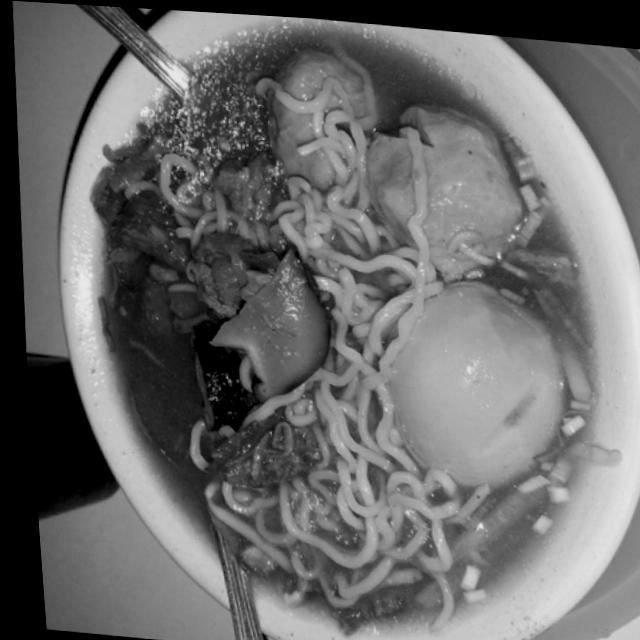面条主食: (34, 6, 635, 639)
